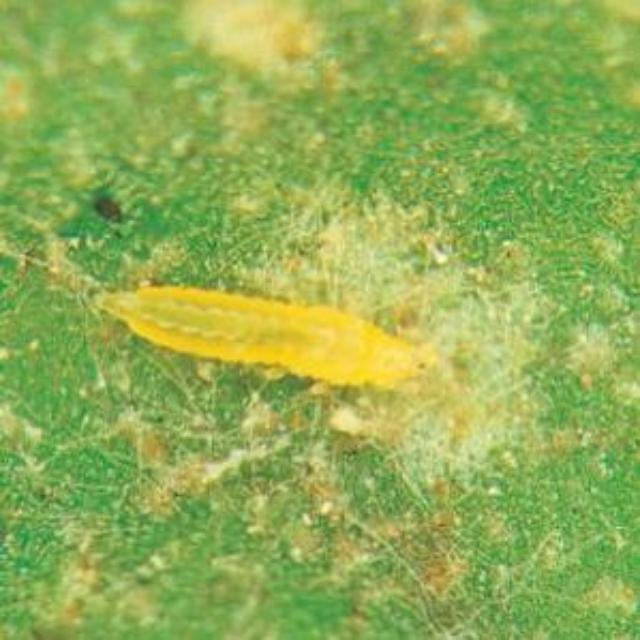melon thrips: (32, 195, 490, 498)
